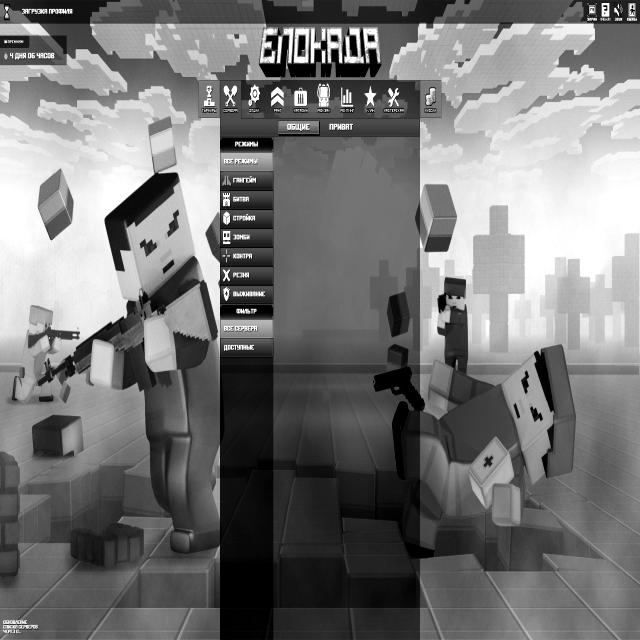Head: (106, 176, 192, 286), (503, 355, 572, 475), (27, 302, 51, 341), (441, 275, 468, 308)
Player: (44, 114, 224, 554), (387, 342, 576, 556), (9, 290, 78, 407), (435, 267, 470, 382)
